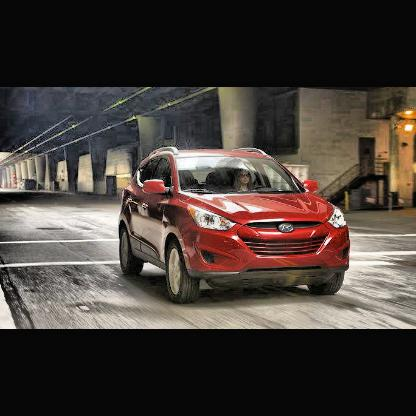Hyundai Tucson SUV 2012: (121, 146, 350, 297)
